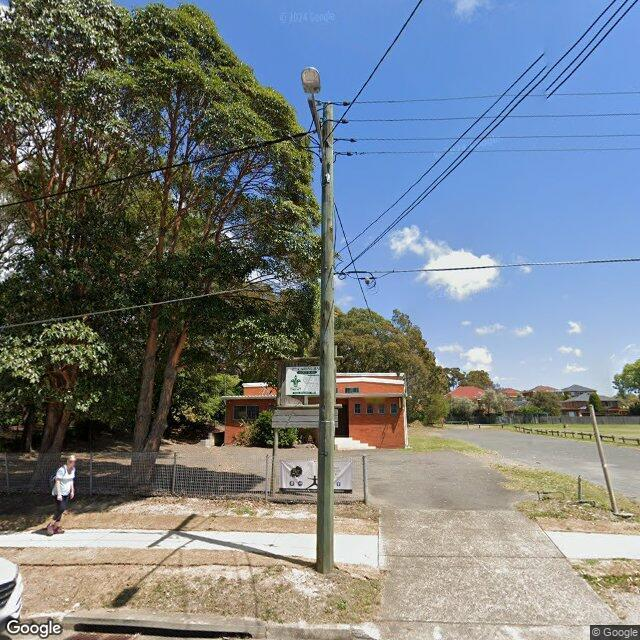crossarm: (308, 97, 327, 154)
streetlight: (302, 66, 332, 183)
timber-pole: (316, 100, 335, 571)
